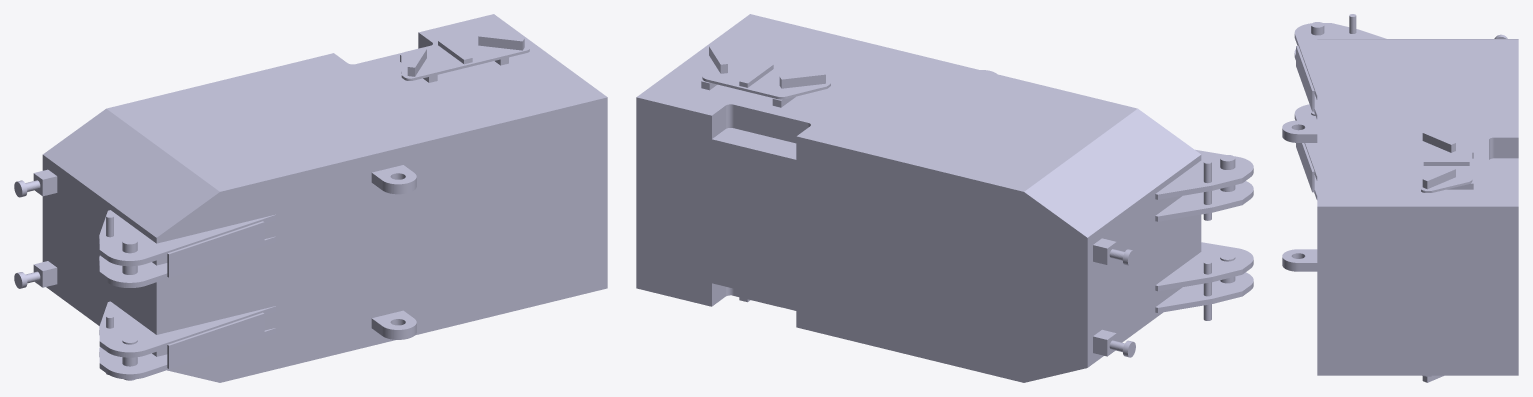
Rendered from WTL_FRONT.obj.
The picture shows the model from 3 angles, left to right: view 1: azimuth 30°, elevation 25°; view 2: azimuth 150°, elevation 25°; view 3: azimuth 270°, elevation 25°; orthographic projection. The views are drawn at different scales.
Visible parts, largest first — view 1: HSC_1000HLX_WTL_000_1-1000HLX_WTL030 (Meshed); view 2: HSC_1000HLX_WTL_000_1-1000HLX_WTL030 (Meshed); view 3: HSC_1000HLX_WTL_000_1-1000HLX_WTL030 (Meshed).
Part boxes in pixels (bbox=[...]): HSC_1000HLX_WTL_000_1-1000HLX_WTL030 (Meshed): bbox=[14, 14, 607, 382]; HSC_1000HLX_WTL_000_1-1000HLX_WTL030 (Meshed): bbox=[636, 14, 1253, 382]; HSC_1000HLX_WTL_000_1-1000HLX_WTL030 (Meshed): bbox=[1282, 14, 1518, 382].
Bounding box in the file's own units: 1890 × 824 × 875.
